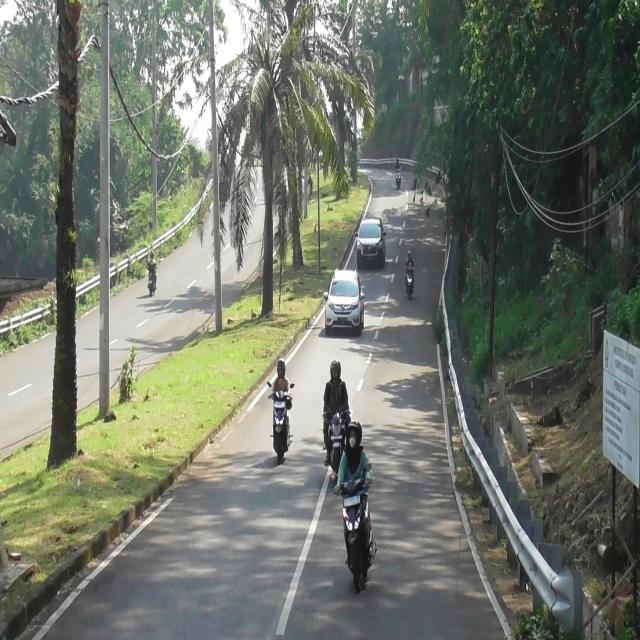motorcycle: (333, 473, 376, 594), (271, 389, 291, 461), (327, 409, 344, 478), (406, 268, 414, 300), (147, 274, 158, 296), (396, 167, 402, 190)
person: (339, 419, 372, 486), (325, 360, 349, 412), (271, 358, 293, 398), (148, 251, 156, 274), (406, 249, 415, 268), (396, 158, 400, 168), (408, 262, 412, 271)
rider_region: (333, 421, 378, 596), (267, 358, 293, 466), (323, 359, 346, 478), (145, 250, 158, 296), (405, 250, 416, 302), (395, 156, 402, 190)
